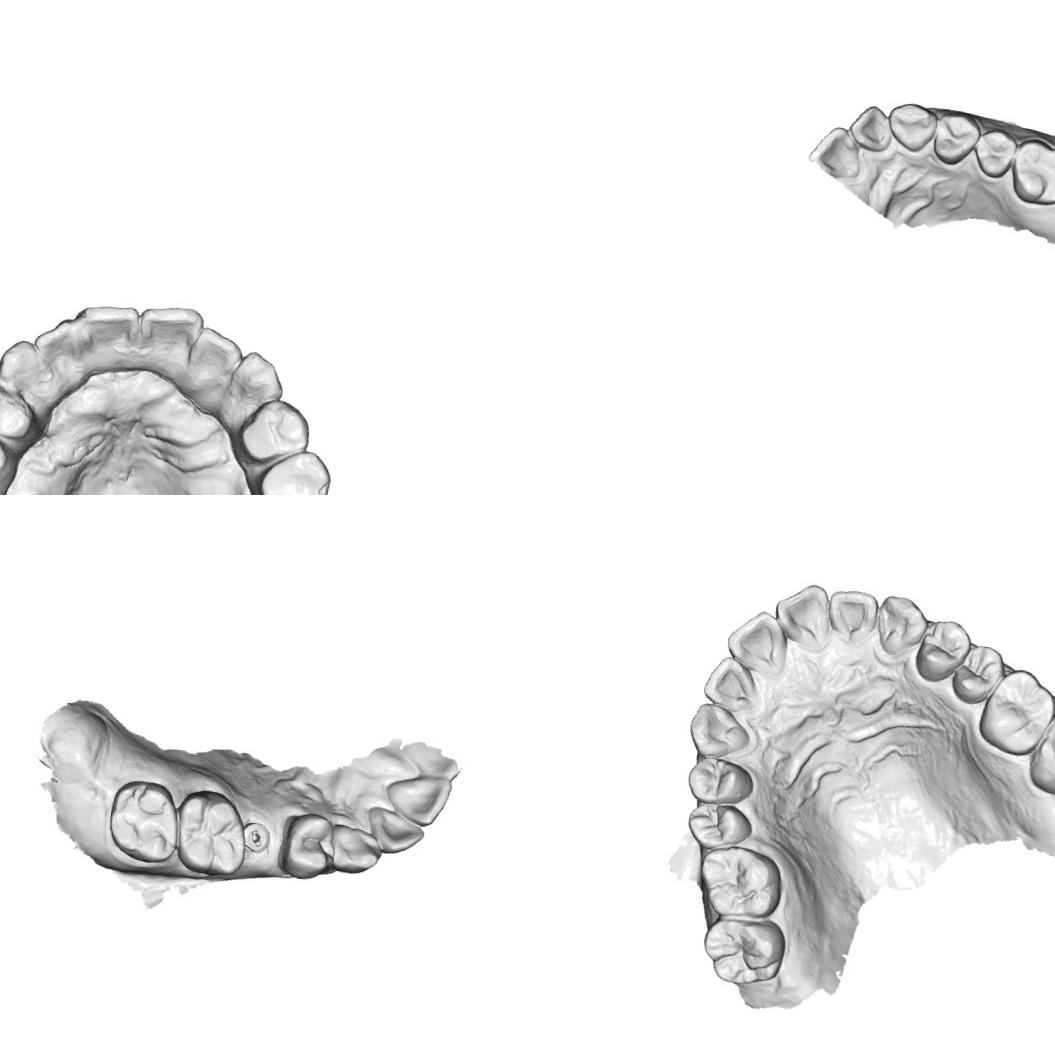canine: (222, 346, 290, 423), (0, 335, 62, 410), (685, 700, 755, 764), (872, 593, 932, 660), (324, 820, 386, 880), (883, 100, 940, 154)
implant_minus: (240, 817, 275, 858)
incisor: (72, 297, 146, 371), (131, 300, 209, 370), (722, 606, 792, 678), (769, 579, 835, 652), (380, 768, 453, 830), (184, 322, 246, 390), (700, 652, 765, 716), (360, 802, 429, 860), (28, 314, 84, 382), (804, 122, 867, 182), (824, 586, 880, 644), (846, 102, 896, 154)
molar: (100, 775, 190, 870), (170, 783, 254, 880), (694, 840, 788, 924), (974, 663, 1055, 759), (697, 913, 790, 991), (1006, 135, 1055, 208), (1024, 707, 1055, 801)
premolar: (234, 390, 319, 472), (277, 807, 342, 885), (251, 441, 339, 495), (912, 616, 974, 686), (684, 753, 757, 808), (948, 640, 1007, 708), (684, 800, 755, 856), (0, 373, 43, 450), (930, 108, 984, 169), (970, 124, 1022, 181), (0, 414, 20, 487)
